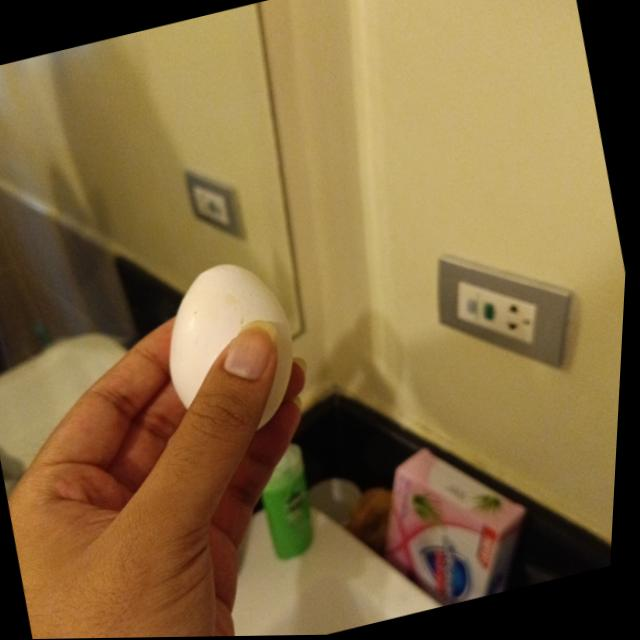egg: (154, 251, 316, 445)
